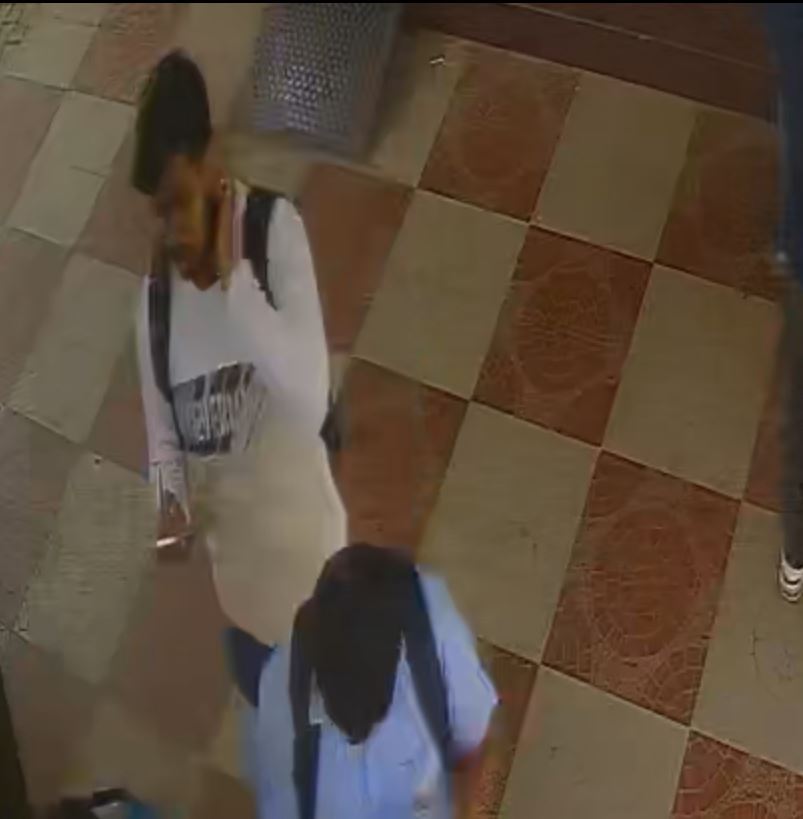intruder: (103, 48, 372, 672)
